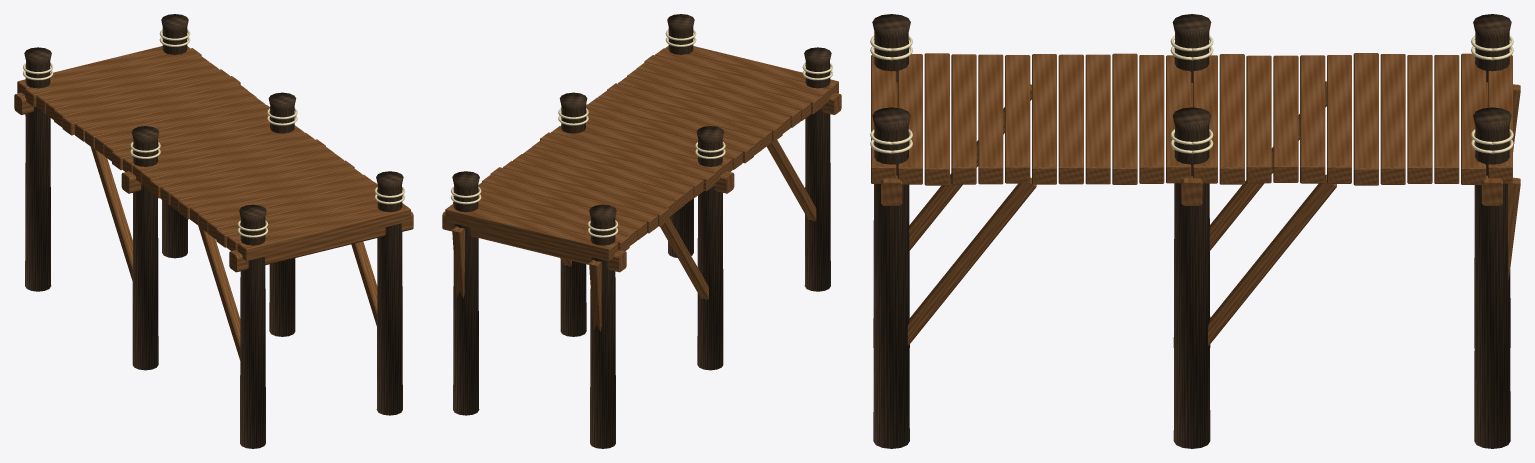
File: dock_straight.glb
The picture shows the model from 3 angles, left to right: view 1: azimuth 30°, elevation 25°; view 2: azimuth 150°, elevation 25°; view 3: azimuth 270°, elevation 25°; orthographic projection. The views are drawn at different scales.
Visible parts, largest first — view 1: dock_straight_Deck, dock_straight_Joinery, dock_straight_Detail; view 2: dock_straight_Deck, dock_straight_Joinery, dock_straight_Detail; view 3: dock_straight_Deck, dock_straight_Joinery, dock_straight_Detail.
Boxes of the visible parts, x1,y1,x2,y2 form: dock_straight_Deck: [17, 46, 410, 261]; dock_straight_Joinery: [14, 14, 413, 448]; dock_straight_Detail: [23, 29, 404, 237]; dock_straight_Deck: [445, 46, 838, 260]; dock_straight_Joinery: [442, 14, 841, 448]; dock_straight_Detail: [451, 29, 832, 237]; dock_straight_Deck: [871, 53, 1512, 185]; dock_straight_Joinery: [872, 14, 1520, 448]; dock_straight_Detail: [870, 35, 1513, 153].
Bounding box in the file's own units: 2.66 × 3.35 × 6.06.
1 material, 1 textured.
